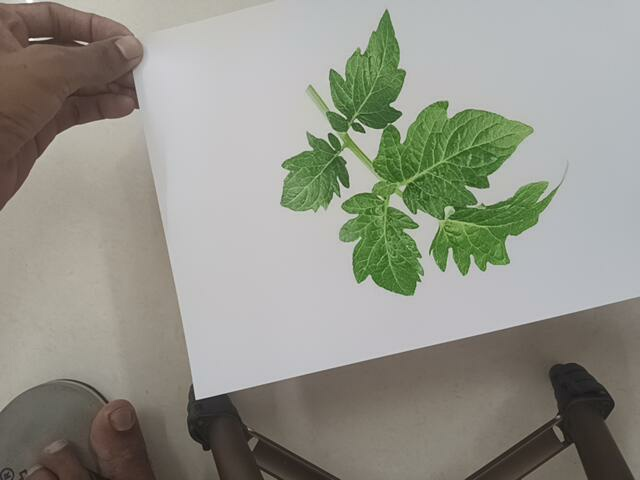Tomamto_Leaf_Healthy: (278, 8, 569, 292)
